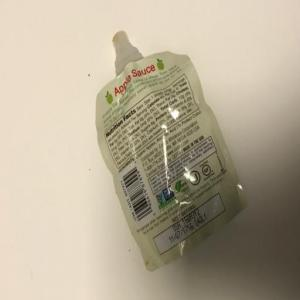Trash: (96, 32, 249, 275)
